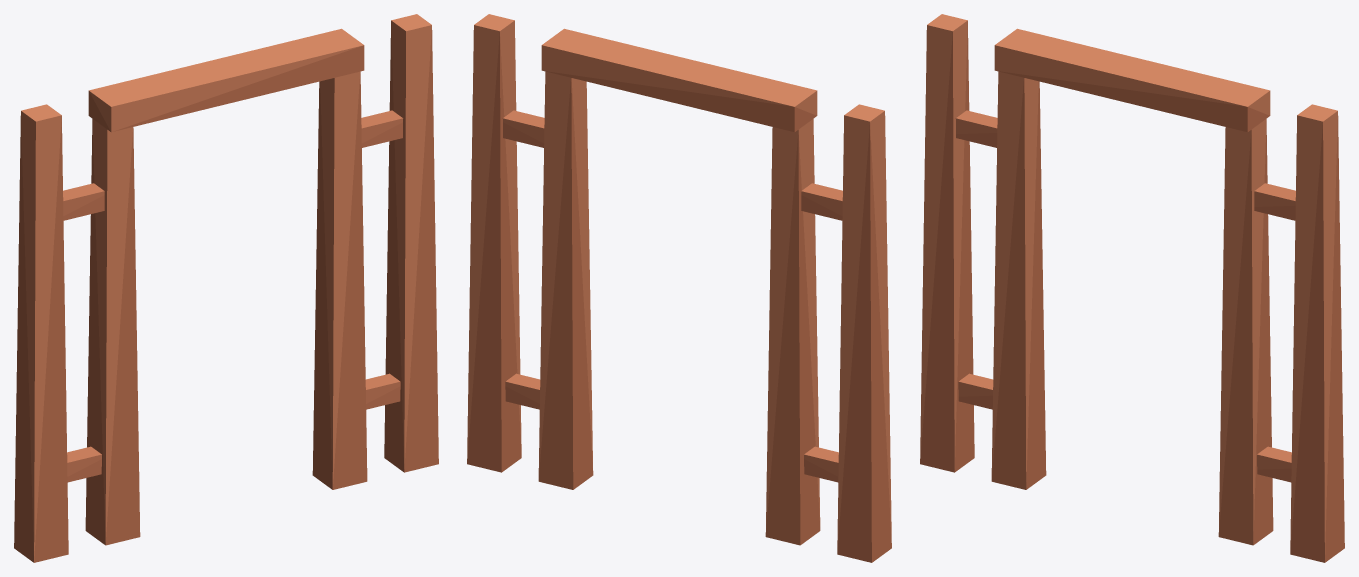
The model's file is fence-doorway.glb.
3 renders of one model, left to right at view 1: azimuth 30°, elevation 25°; view 2: azimuth 150°, elevation 25°; view 3: azimuth 330°, elevation 25°, orthographic.
Visible parts, largest first — view 1: cc77450, cdb845d, cea9167, ccb7753, cd37d58, cdf8860; view 2: cc77450, cdb845d, cea9167, ccb7753, cd37d58, cdf8860; view 3: cc77450, cdb845d, cea9167, cd37d58, ccb7753, cdf8860.
Boxes of the visible parts, x1=… form: cc77450: x1=14, y1=22, x2=438, y2=562; cdb845d: x1=21, y1=20, x2=431, y2=561; cea9167: x1=21, y1=14, x2=431, y2=121; ccb7753: x1=63, y1=122, x2=402, y2=482; cd37d58: x1=63, y1=118, x2=403, y2=476; cdf8860: x1=63, y1=110, x2=402, y2=462; cc77450: x1=467, y1=32, x2=891, y2=562; cdb845d: x1=467, y1=20, x2=891, y2=551; cea9167: x1=474, y1=14, x2=884, y2=121; ccb7753: x1=503, y1=122, x2=842, y2=482; cd37d58: x1=502, y1=118, x2=842, y2=476; cdf8860: x1=503, y1=110, x2=842, y2=462; cc77450: x1=920, y1=22, x2=1344, y2=562; cdb845d: x1=920, y1=20, x2=1337, y2=554; cea9167: x1=927, y1=14, x2=1337, y2=121; cd37d58: x1=955, y1=118, x2=1295, y2=469; ccb7753: x1=956, y1=133, x2=1295, y2=482; cdf8860: x1=956, y1=110, x2=1295, y2=462.
Bounding box in the file's own units: 0.5 × 0.5175 × 0.0481.
